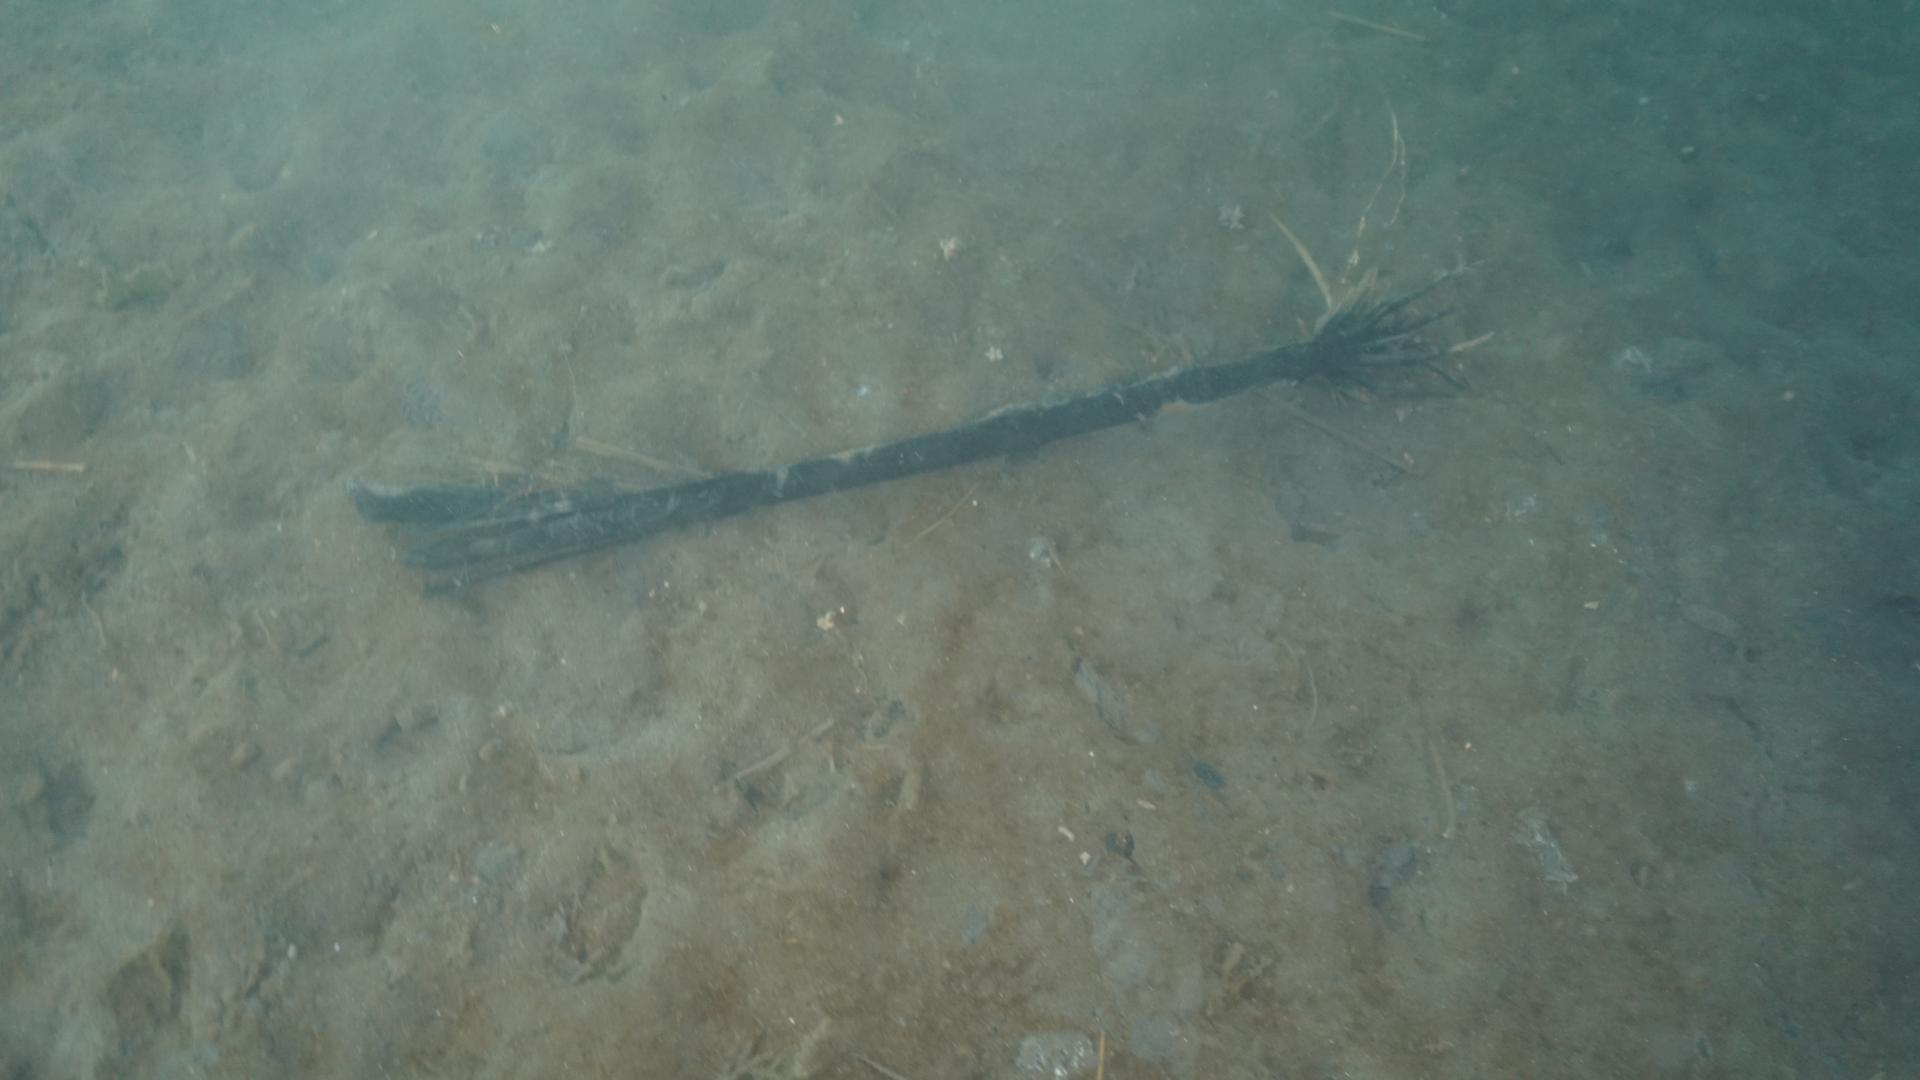wood: (345, 84, 1489, 596)
